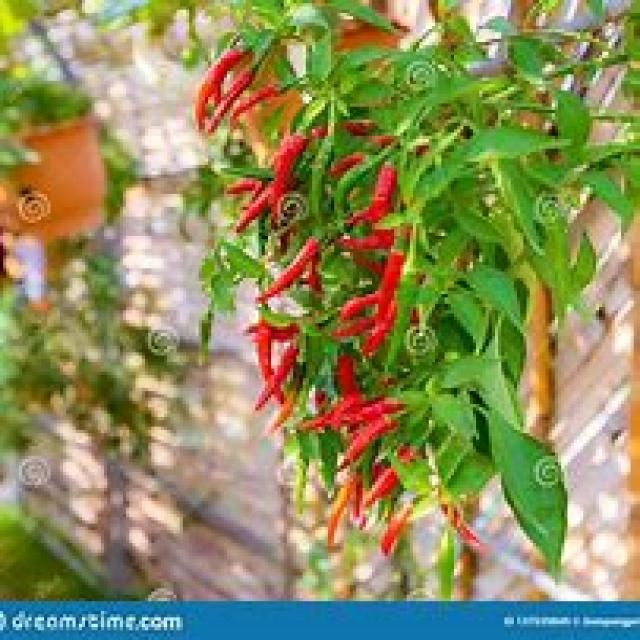Mosaic_virus: (176, 8, 623, 562)
